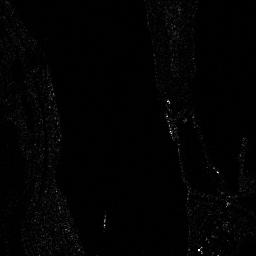ship: (162, 97, 178, 142)
